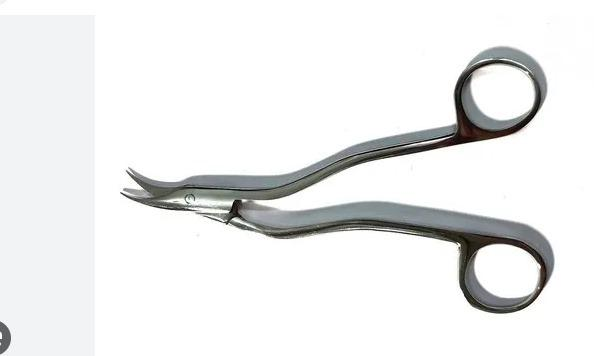Stapler Remover: (114, 48, 563, 321)
